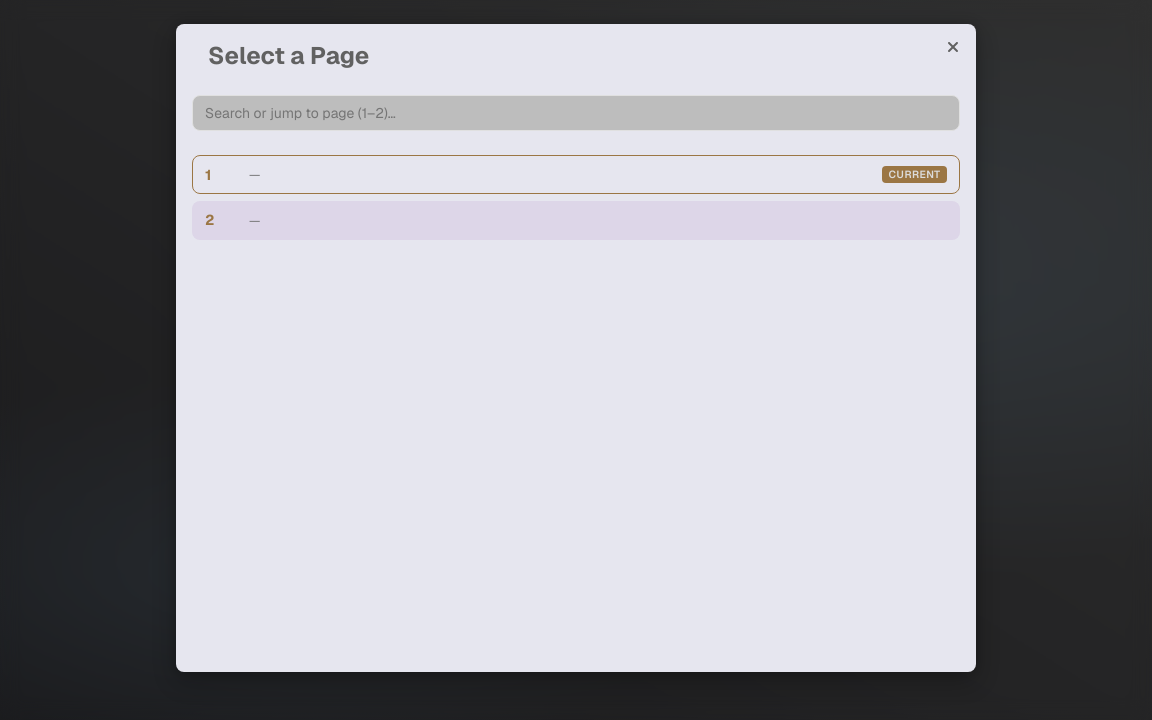
Test case: SearcherModal › shows a no-results message when nothing matches
The width and height of the screenshot is (1152, 720).
Expected: the list item with test id "searcher-page-1" is shown, [192,155,960,194]
Type "nonexistentword" into the field with test id "searcher-input" at (576, 113), box [192,95,960,131]
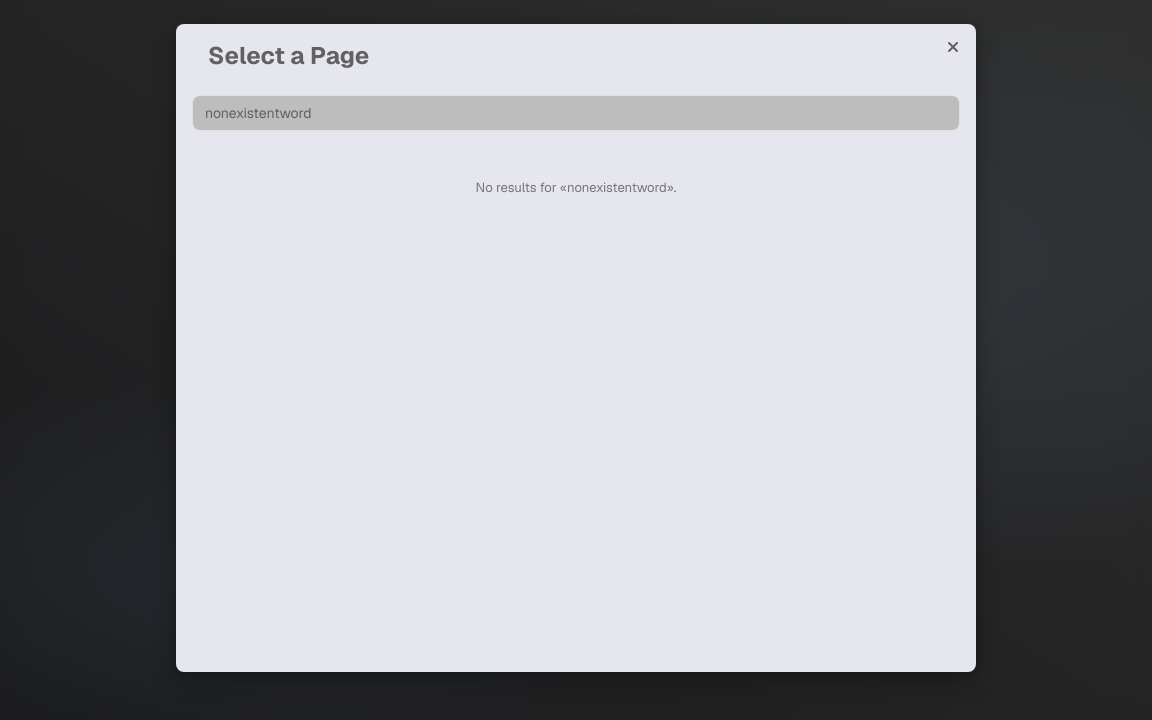
Expected: the text "No results for «nonexistentword»." is shown, [476,179,676,196]
